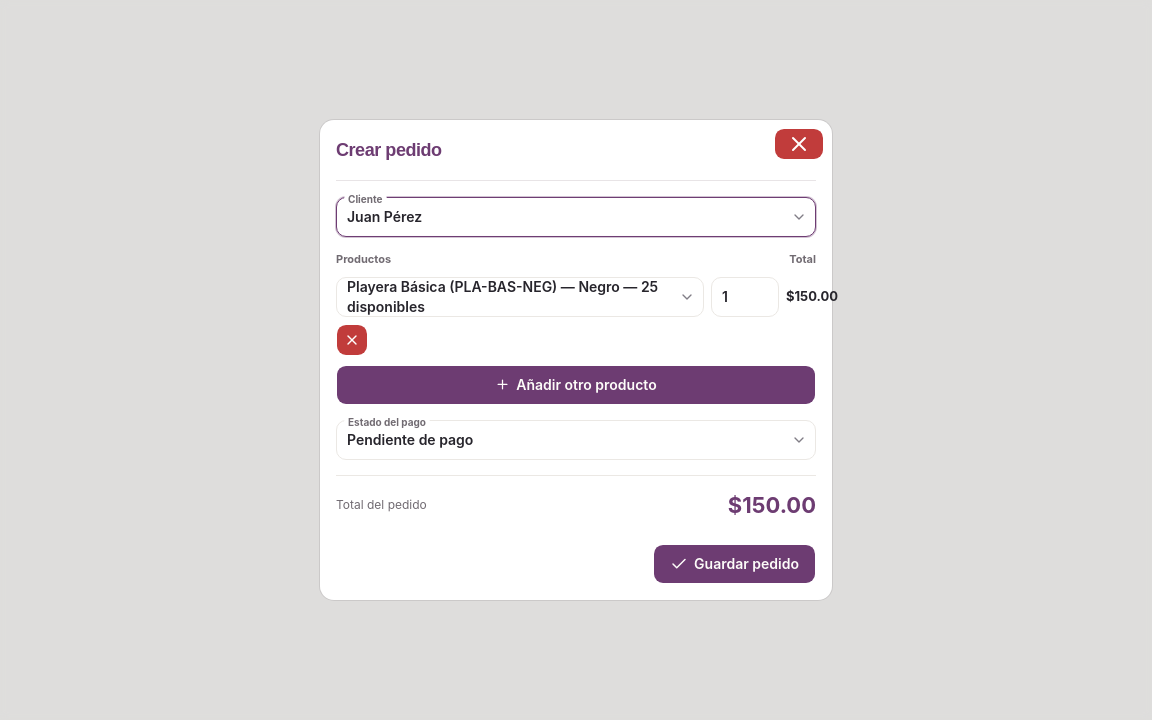
Scenario: OrderModal › Selección de cliente › debería permitir cambiar el cliente seleccionado
The image size is (1152, 720).
Click the dropdown named "Cliente" at x=385, y=216, box [336,197,816,237]
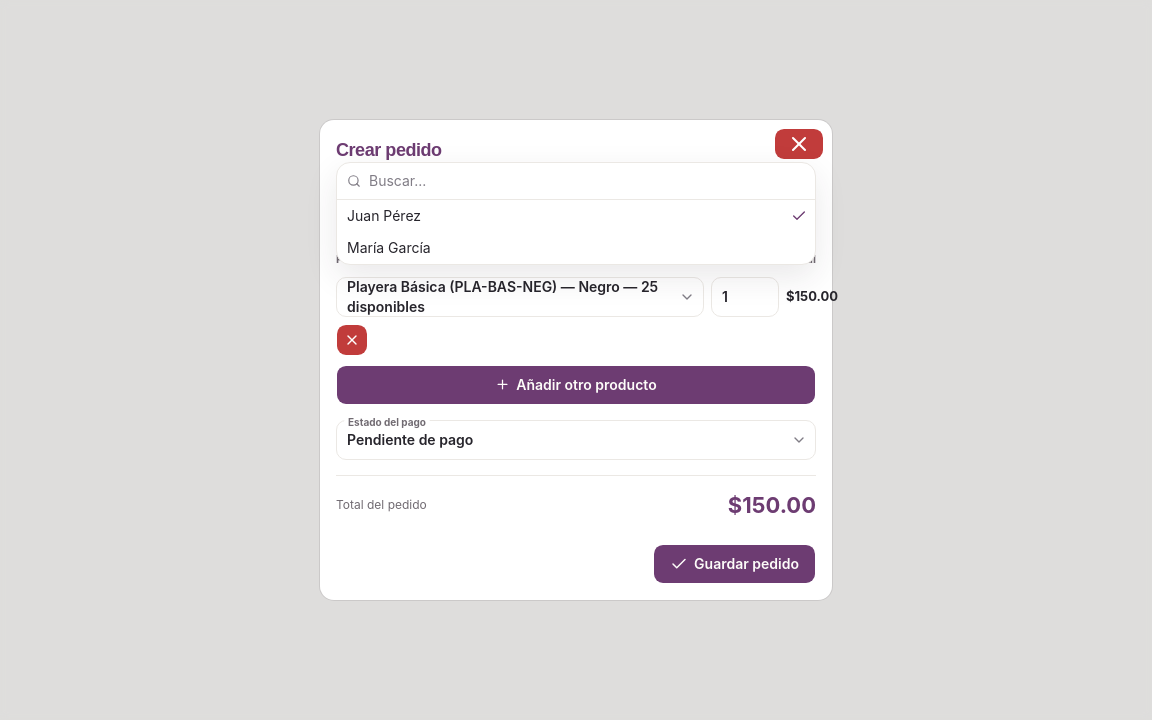
Click the option "María García" at x=389, y=248, box [347,239,431,256]
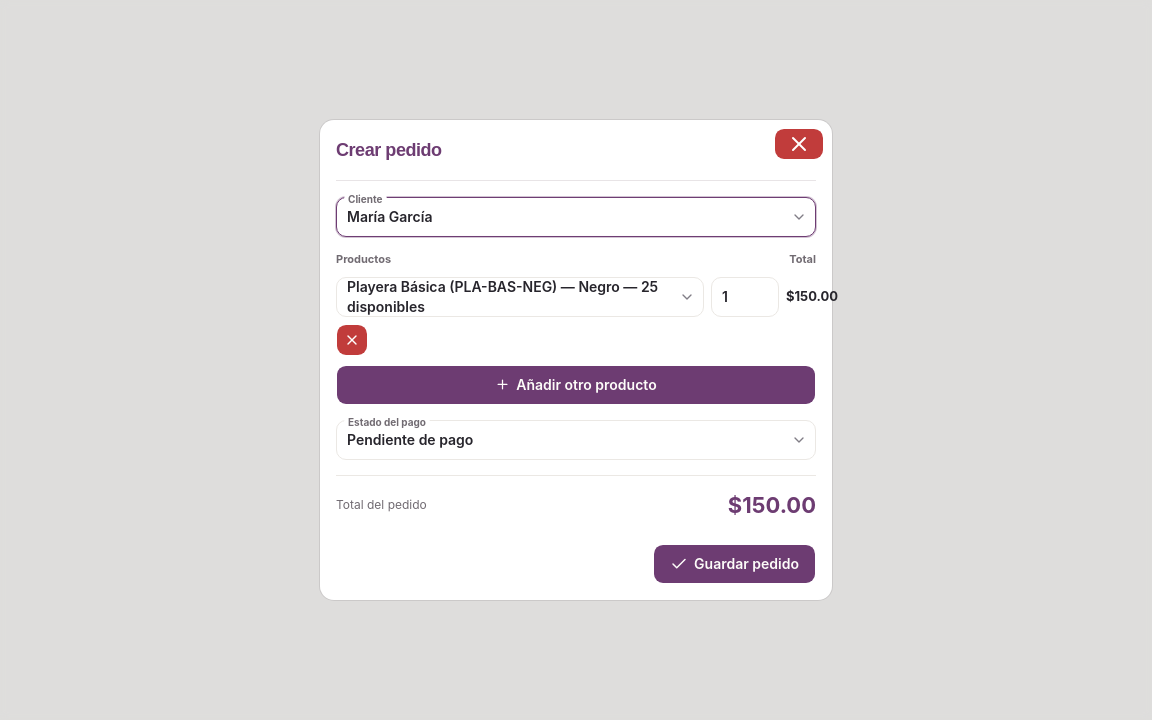
Expected: the dropdown named "Cliente" shows "María García", [336,197,816,237]
